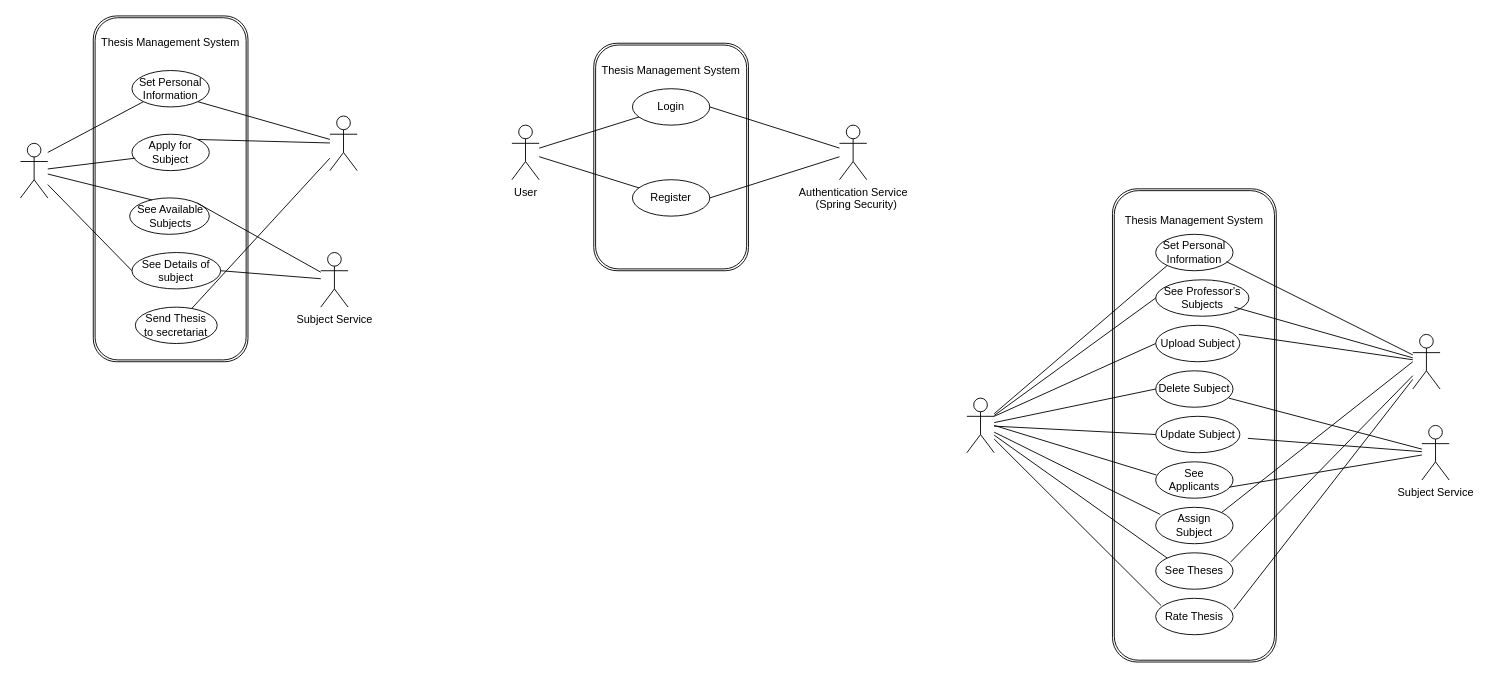
This 1506x678 diagram has some shape labels left out. The shapes that lost their labels are listed below. From the top down, each one's centre as x and y in pixels, then its label:
At [343,143]: "Student Service".
At [34,170]: "Student".
At [1426,361]: "Professor Service".
At [980,425]: "Professor".
